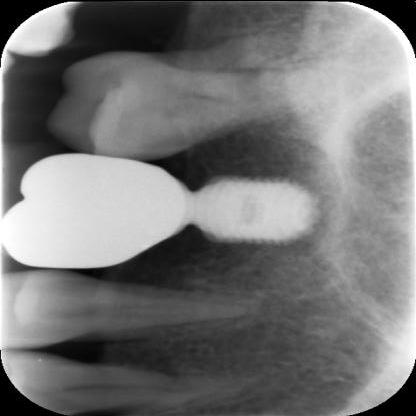Bicon: (180, 176, 320, 244)
